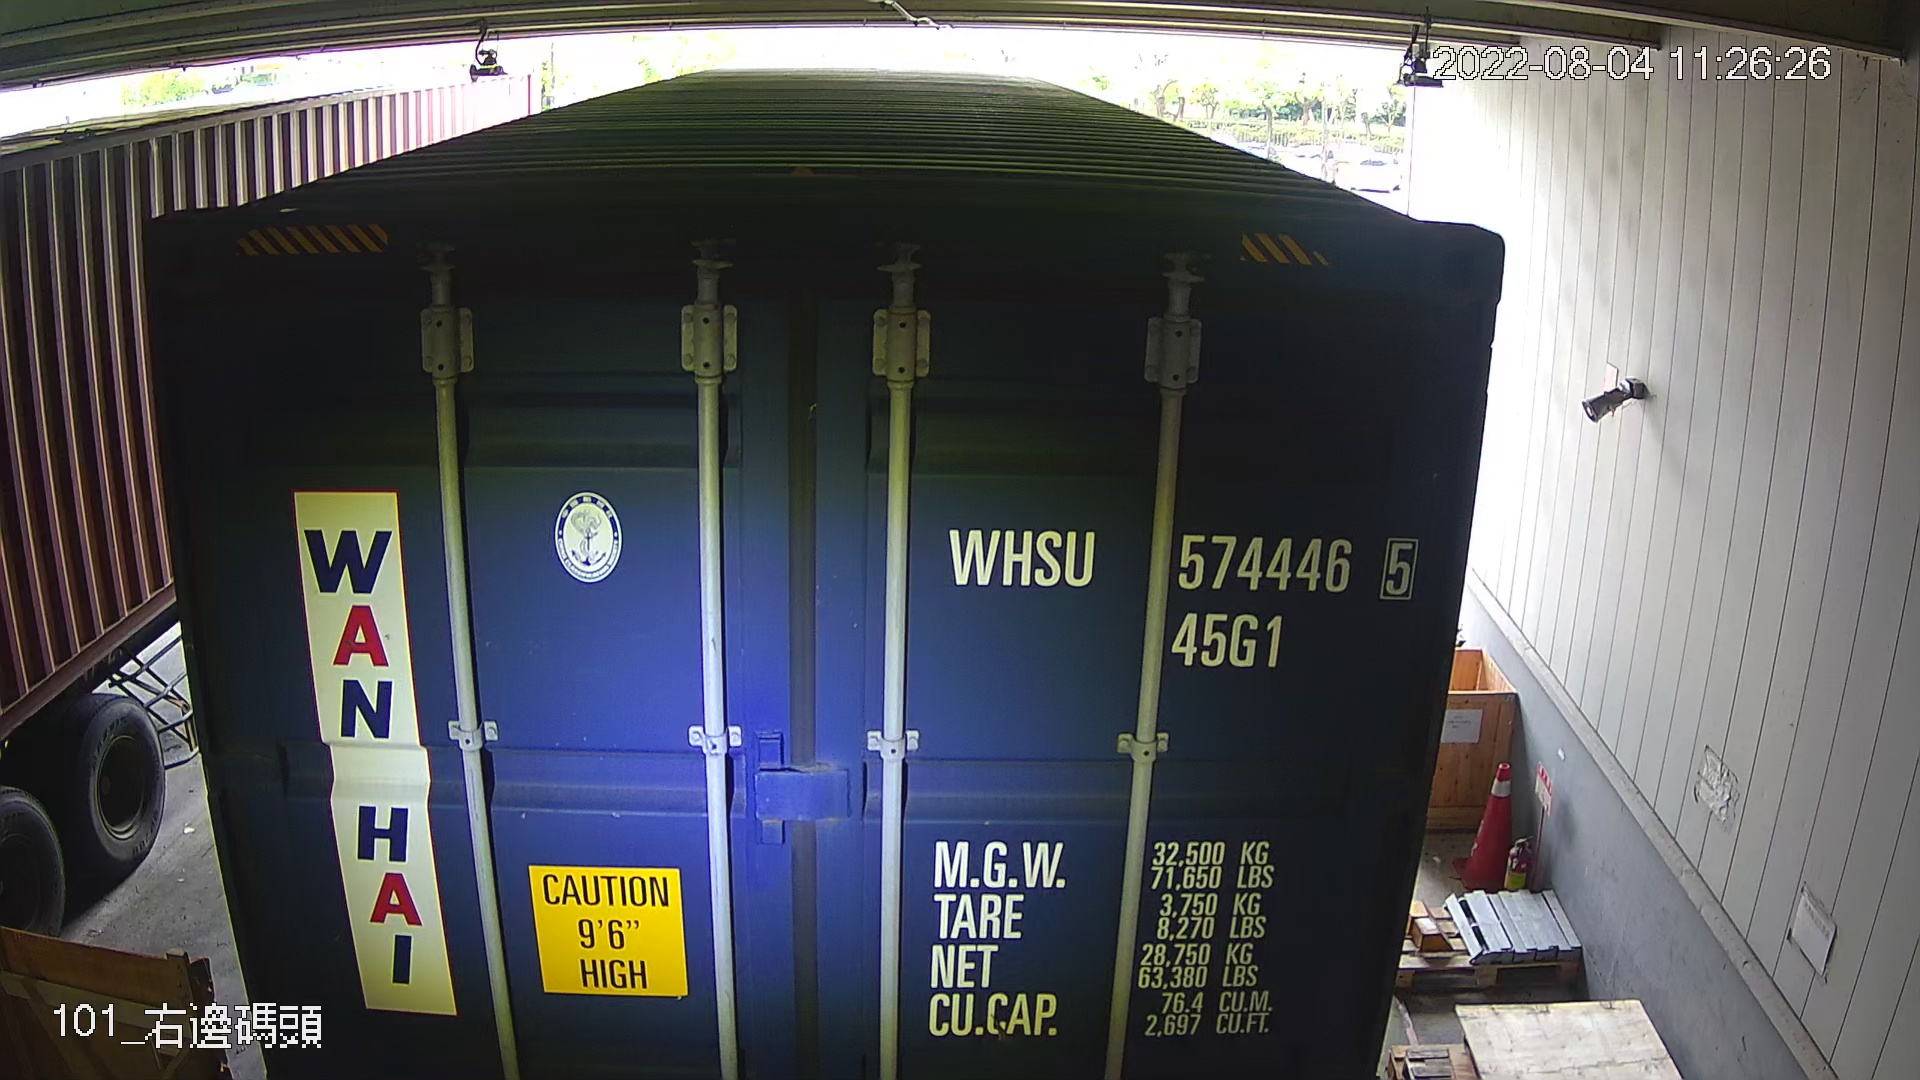container: (928, 508, 1432, 682)
